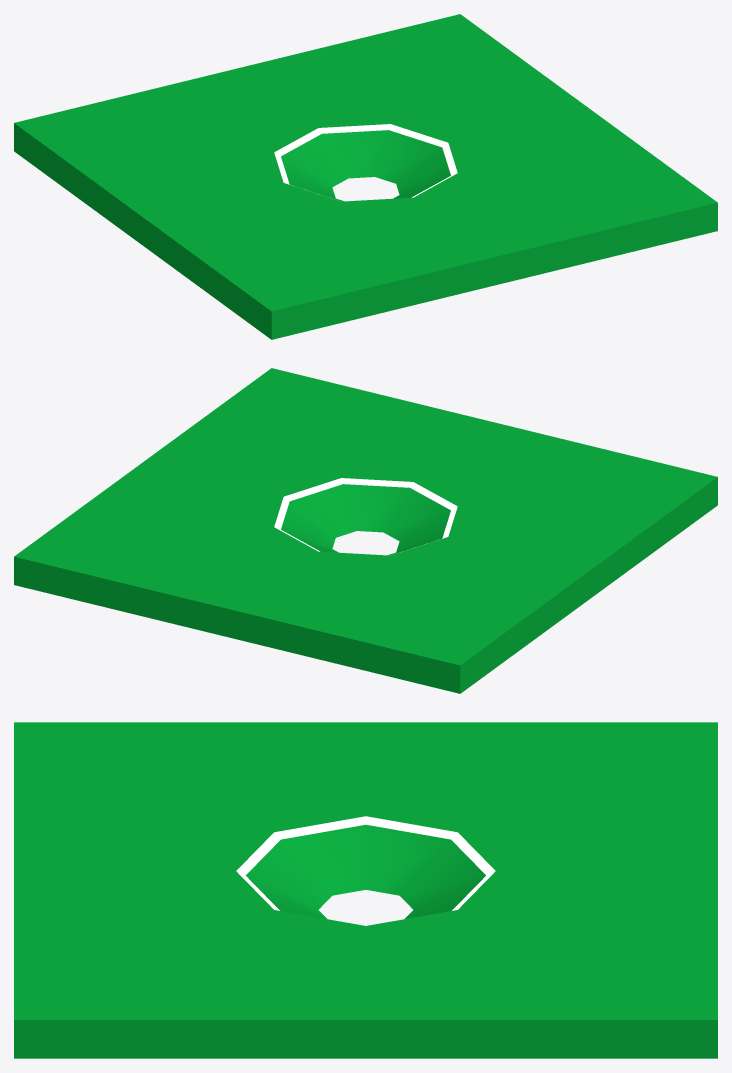
The model's file is basic_hole.gltf.
The picture shows the model from 3 angles, top to bottom: view 1: azimuth 30°, elevation 25°; view 2: azimuth 150°, elevation 25°; view 3: azimuth 270°, elevation 25°; orthographic projection. The views are drawn at different scales.
Parts seen in each view (by area): view 1: basic_hole_glb; view 2: basic_hole_glb; view 3: basic_hole_glb.
Part boxes in pixels (x1,y1,x2,y2): basic_hole_glb: (14,14,717,339); basic_hole_glb: (14,368,717,693); basic_hole_glb: (14,722,717,1058).
Size of what is drawn, in the model's own units: 4 by 0.2432 by 4.
Materials: 1 (1 with a texture image).
